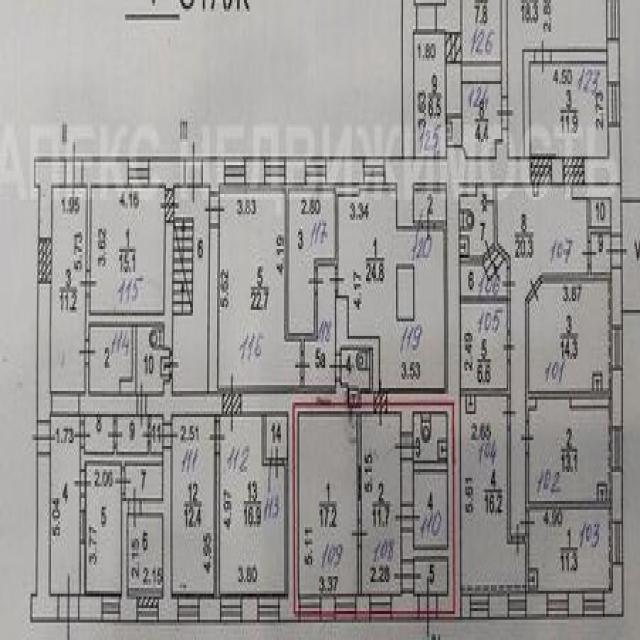Bathrooms: (460, 188, 493, 255), (139, 328, 163, 392), (415, 415, 447, 459), (342, 351, 370, 386)
Corridors: (499, 187, 587, 532), (508, 0, 607, 156), (363, 416, 398, 592), (51, 417, 79, 594), (87, 467, 121, 591), (305, 267, 335, 383), (463, 84, 501, 156), (90, 328, 132, 392), (415, 474, 447, 546), (464, 0, 500, 59), (460, 262, 508, 296), (127, 466, 161, 498), (119, 418, 146, 451), (86, 418, 113, 451), (417, 563, 446, 593), (415, 191, 442, 220), (267, 418, 287, 456), (592, 236, 610, 269), (593, 200, 610, 225), (153, 418, 161, 452), (416, 0, 445, 3)
Doors: (481, 233, 509, 286), (183, 136, 204, 205), (58, 572, 79, 639), (221, 370, 242, 435), (64, 136, 84, 203), (418, 574, 438, 639), (393, 558, 423, 594), (31, 420, 57, 456), (393, 433, 422, 460), (204, 192, 225, 229), (606, 235, 629, 268), (393, 505, 421, 532), (374, 376, 388, 430), (159, 187, 180, 222), (534, 37, 552, 75), (495, 96, 514, 130), (418, 207, 436, 242), (128, 485, 142, 530), (416, 4, 437, 34), (52, 392, 79, 415), (524, 274, 543, 306), (209, 421, 226, 455), (501, 396, 517, 432), (155, 424, 179, 447), (580, 240, 599, 269), (329, 354, 348, 383), (351, 520, 370, 548), (73, 470, 92, 498), (114, 466, 131, 497), (73, 420, 91, 449), (79, 269, 98, 296), (140, 423, 157, 453), (163, 351, 180, 381), (306, 268, 324, 296), (502, 266, 517, 299), (502, 330, 517, 363), (329, 267, 346, 296), (511, 521, 524, 558), (294, 350, 310, 380), (79, 339, 96, 367), (137, 381, 147, 428), (521, 420, 534, 456), (518, 511, 536, 537), (270, 444, 283, 480), (107, 421, 123, 448), (80, 511, 86, 544), (357, 466, 362, 500)
LBwalls: (385, 0, 622, 620), (242, 383, 373, 622), (34, 155, 64, 421), (142, 445, 178, 626), (30, 456, 57, 623), (147, 382, 222, 424), (208, 229, 218, 392), (84, 156, 129, 187), (79, 392, 137, 416), (164, 222, 173, 351), (396, 264, 416, 322), (327, 155, 364, 184), (150, 156, 184, 187), (605, 563, 624, 617), (462, 60, 502, 83), (203, 155, 224, 194), (392, 594, 418, 622), (611, 369, 623, 427), (611, 268, 623, 324), (79, 594, 101, 623), (401, 460, 415, 503), (335, 296, 349, 339), (606, 40, 621, 80), (245, 156, 265, 185), (611, 472, 623, 518), (286, 157, 304, 186), (201, 596, 220, 623), (527, 592, 546, 619), (490, 594, 508, 620), (570, 399, 611, 409), (122, 596, 136, 624), (356, 594, 369, 623), (569, 591, 582, 620), (243, 597, 257, 623), (322, 595, 335, 623), (400, 533, 414, 558), (119, 376, 137, 392), (528, 400, 537, 411)
Offices: (340, 191, 444, 389), (219, 195, 299, 387), (461, 398, 526, 593), (221, 415, 285, 594), (300, 415, 356, 594), (91, 187, 162, 311), (529, 283, 611, 390), (529, 399, 611, 501), (531, 65, 608, 157), (174, 418, 213, 594), (52, 187, 83, 391), (530, 511, 611, 589), (289, 195, 334, 332), (415, 35, 446, 156), (461, 304, 506, 386), (128, 516, 162, 596)
Stairs: (175, 188, 207, 391)
Walls: (220, 184, 385, 350), (525, 301, 611, 421), (85, 296, 164, 382), (525, 455, 612, 510), (335, 336, 380, 389), (80, 447, 162, 471), (460, 295, 511, 332), (460, 362, 511, 399), (522, 49, 534, 158), (541, 266, 612, 283), (586, 199, 611, 242), (214, 454, 220, 595), (500, 0, 508, 95), (552, 50, 607, 63), (121, 494, 128, 594), (507, 431, 512, 543), (261, 415, 271, 467), (415, 546, 447, 561), (86, 187, 91, 270), (415, 461, 446, 473), (80, 544, 87, 594), (524, 536, 529, 592), (493, 187, 498, 242), (357, 415, 362, 465), (460, 255, 482, 266), (84, 367, 90, 392), (358, 547, 361, 593), (357, 499, 362, 520), (436, 220, 443, 232), (80, 498, 86, 511), (414, 219, 418, 233), (283, 456, 287, 469), (507, 255, 511, 268), (214, 415, 221, 422), (80, 415, 85, 421), (114, 415, 118, 422), (148, 417, 152, 424), (300, 379, 305, 384)
Windows: (128, 157, 150, 187), (546, 591, 570, 618), (220, 594, 243, 622), (369, 594, 392, 622), (607, 81, 621, 127), (224, 156, 246, 185), (264, 156, 286, 185), (305, 157, 327, 186), (363, 156, 385, 185), (38, 238, 52, 283), (136, 596, 159, 623), (177, 596, 200, 623), (582, 591, 605, 618), (335, 594, 357, 622), (606, 0, 621, 40), (258, 596, 280, 623), (299, 596, 321, 623), (469, 592, 490, 620), (507, 591, 528, 619), (101, 593, 121, 622), (611, 427, 623, 472), (611, 325, 623, 370), (612, 521, 624, 563)
